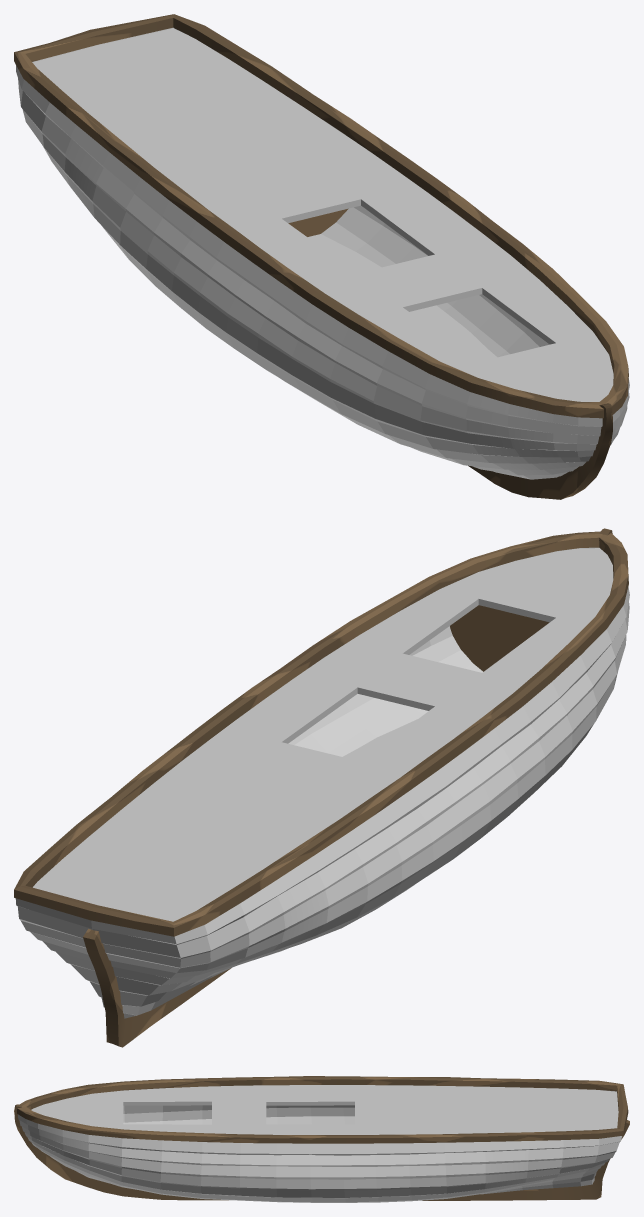
File: SM_Veh_Ship_M_Hull_01.fbx
3 renders of one model, top to bottom at view 1: azimuth 30°, elevation 25°; view 2: azimuth 150°, elevation 25°; view 3: azimuth 270°, elevation 25°, orthographic. The views are drawn at different scales.
Visible parts, largest first — view 1: SM_Veh_Ship_M_Hull_01; view 2: SM_Veh_Ship_M_Hull_01; view 3: SM_Veh_Ship_M_Hull_01.
Boxes of the visible parts, <box> form: SM_Veh_Ship_M_Hull_01: <box>14,14,629,499</box>; SM_Veh_Ship_M_Hull_01: <box>14,528,629,1047</box>; SM_Veh_Ship_M_Hull_01: <box>14,1076,629,1202</box>.
Bounding box in the file's own units: 860 × 491 × 2928.
